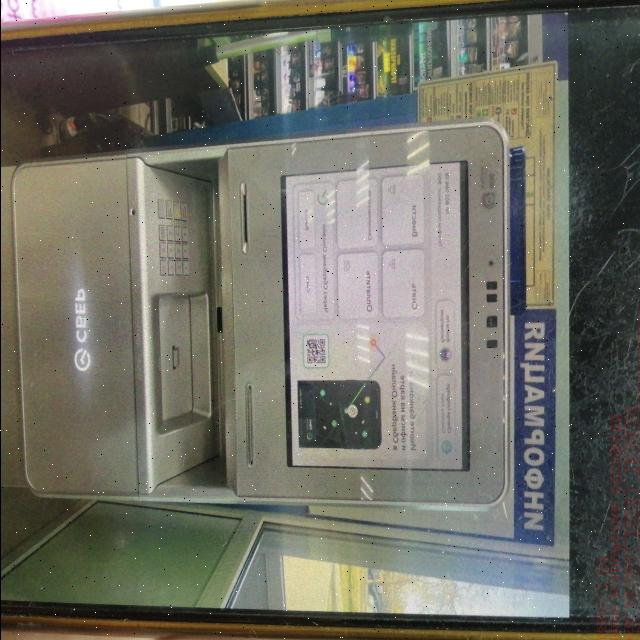bank: (0, 122, 511, 515)
